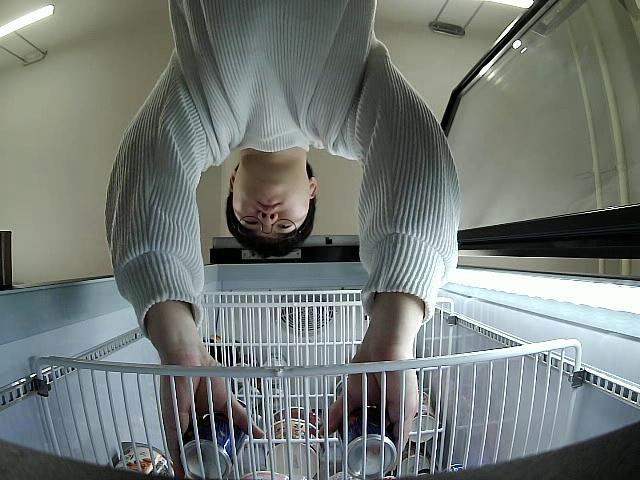16_hot6: (331, 381, 396, 476), (181, 398, 254, 478)
